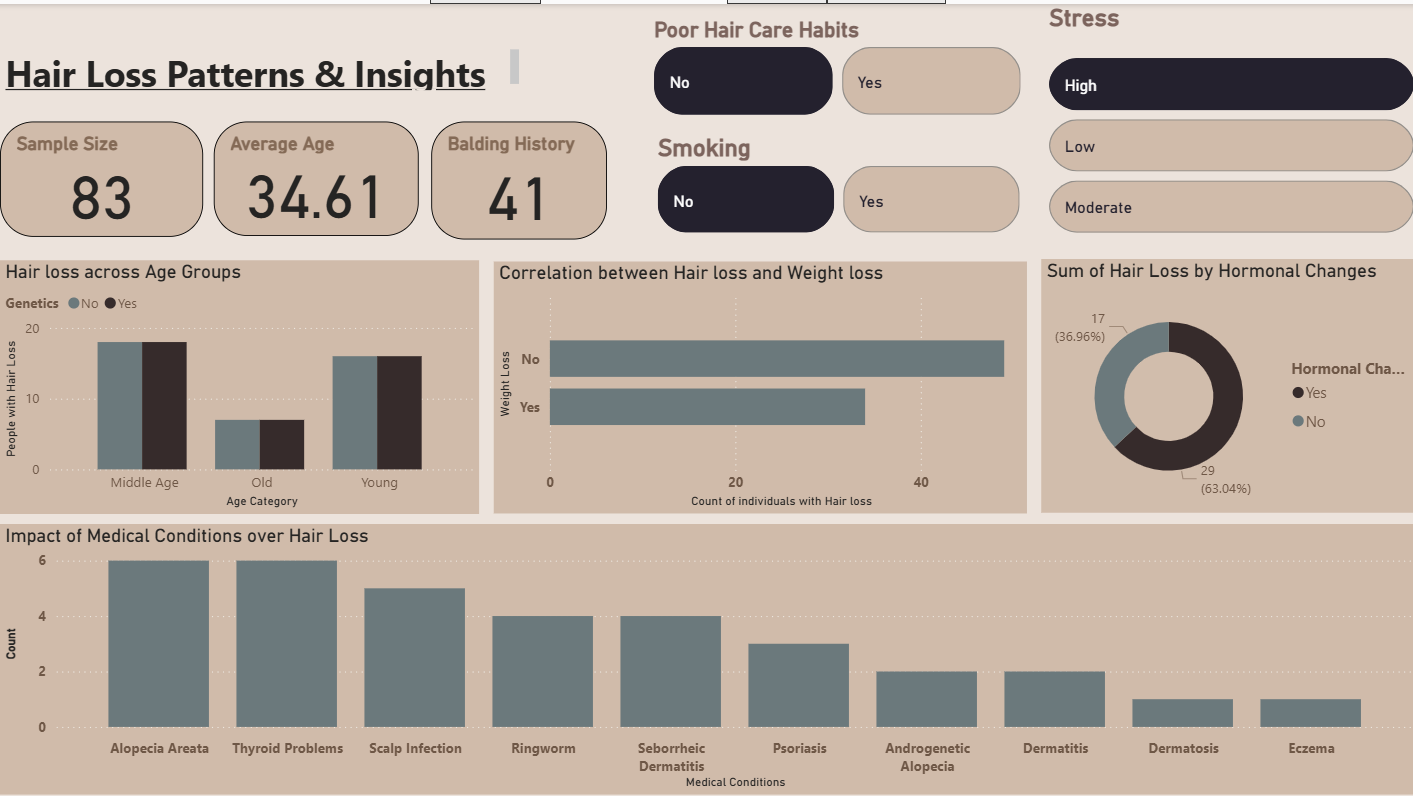

The page's visual inventory and layout, read from the dashboard file:
{"tool":"powerbi","page":{"name":"Page 1","canvas":[1280,720],"ordinal":0},"visuals":[{"type":"clusteredColumnChart","title":"Hair loss across Age Groups","fields":{"Y":["Hair fall data.% with genetics"],"Series":["Hair fall data.Genetics"],"Category":["Hair fall data.Age Category"]},"box":[0,230.9,432.3,228.6],"z":0},{"type":"card","title":"Balding History","fields":{"Values":["Hair fall data.% with genetics"]},"box":[388.3,105.9,158.2,106.7],"z":1000,"group":"g1"},{"type":"barChart","title":"Correlation between Hair loss and Weight loss","fields":{"Category":["Hair fall data.Weight Loss "],"Y":["CountNonNull(Hair fall data.Hair Loss)"]},"box":[445.3,232.1,480.8,227.4],"z":1000},{"type":"card","title":"Sample Size","fields":{"Values":["CountNonNull(Hair fall data.Id)"]},"box":[0,105.9,183.4,104.3],"z":2000,"group":"g1"},{"type":"donutChart","fields":{"Y":["Sum(Hair fall data.Hair Loss)"],"Category":["Hair fall data.Hormonal Changes"]},"box":[938.7,230.4,341.3,229],"z":2000},{"type":"card","title":"Average Age","fields":{"Values":["Avg(Hair fall data.Age)"]},"box":[193,105.5,184.8,103],"z":3000,"group":"g1"},{"type":"advancedSlicerVisual","fields":{"Values":["Hair fall data.Smoking"]},"box":[588.5,117.5,338,94.7],"z":3000},{"type":"columnChart","title":"Impact of Medical Conditions over Hair Loss","fields":{"Category":["Hair fall data.Medical Conditions"],"Y":["Sum(Hair fall data.Hair Loss)"]},"box":[0,469,1280.2,244],"z":4000},{"type":"advancedSlicerVisual","fields":{"Values":["Hair fall data.Stress"]},"box":[940.8,0,339.2,232.5],"z":5000},{"type":"advancedSlicerVisual","fields":{"Values":["Hair fall data.Poor Hair Care Habits "]},"box":[585,12.4,341.5,93.6],"z":6000},{"type":"group","id":"g1","title":"Group 1","box":[0,105.5,546.5,106.7],"z":7000},{"type":"textbox","box":[0,36.1,473.4,46.2],"z":7001}]}

Visuals, with their boxes in screenshot pixels (x1, y1, x2, y2), scaled from the page's 1280x720 canvas onto the 1413x796 screenshot:
"Hair loss across Age Groups" clusteredColumnChart: box(0, 255, 477, 508)
"Balding History" card: box(429, 117, 603, 235)
"Correlation between Hair loss and Weight loss" barChart: box(492, 257, 1022, 508)
"Sample Size" card: box(0, 117, 202, 232)
donutChart - Sum(Hair fall data.Hair Loss) x Hair fall data.Hormonal Changes: box(1036, 255, 1412, 508)
"Average Age" card: box(213, 117, 417, 231)
advancedSlicerVisual - Hair fall data.Smoking: box(650, 130, 1023, 235)
"Impact of Medical Conditions over Hair Loss" columnChart: box(0, 519, 1412, 788)
advancedSlicerVisual - Hair fall data.Stress: box(1039, 0, 1412, 257)
advancedSlicerVisual - Hair fall data.Poor Hair Care Habits : box(646, 14, 1023, 117)
"Group 1" group: box(0, 117, 603, 235)
textbox: box(0, 40, 523, 91)
